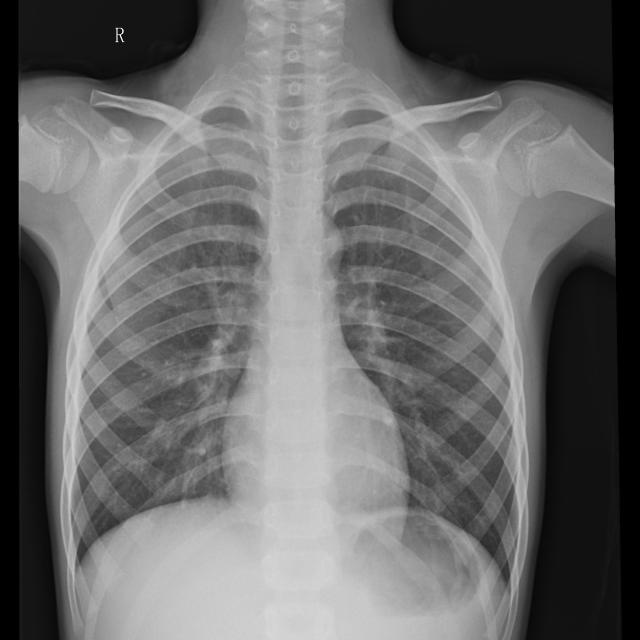no-pneumonia: (66, 108, 273, 569), (326, 122, 528, 586)
